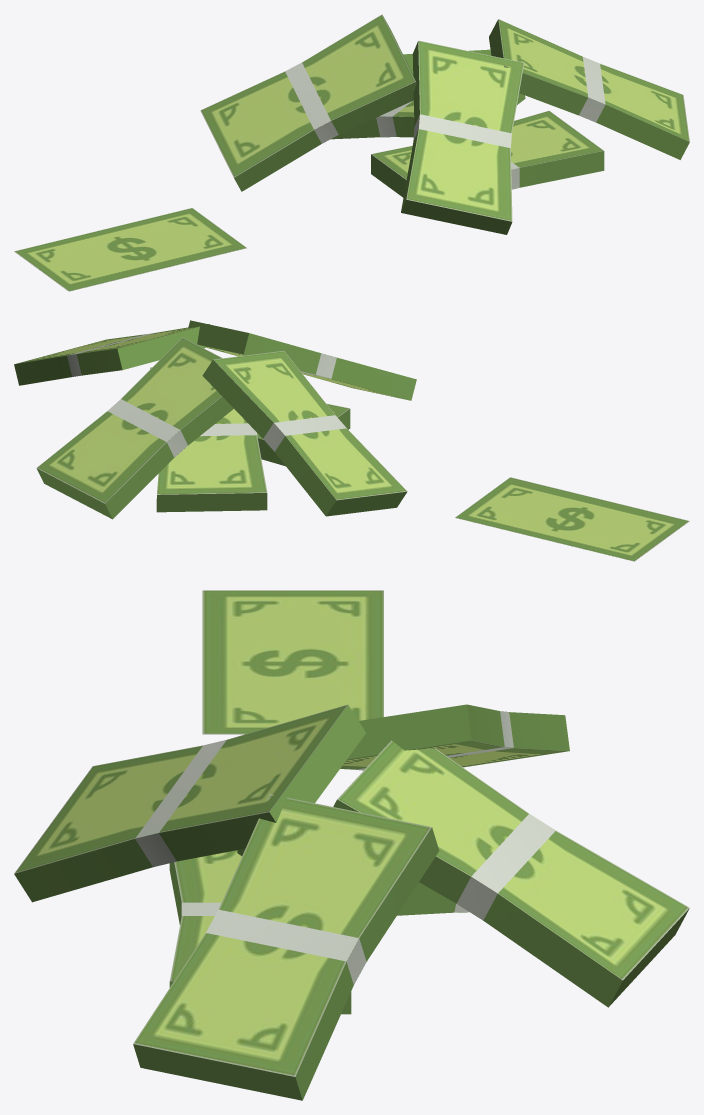
File: cash_lowpoly.glb
3 renders of one model, top to bottom at view 1: azimuth 30°, elevation 25°; view 2: azimuth 150°, elevation 25°; view 3: azimuth 270°, elevation 25°, orthographic. The views are drawn at different scales.
Visible parts, largest first — view 1: C3_01 - Default_0, C7_01 - Default_0, C5_01 - Default_0, Cash_01 - Default_0, C2_01 - Default_0, C4_01 - Default_0; view 2: C6_01 - Default_0, C7_01 - Default_0, Cash_01 - Default_0, C4_01 - Default_0, C3_01 - Default_0, C5_01 - Default_0, C2_01 - Default_0; view 3: C5_01 - Default_0, C6_01 - Default_0, C3_01 - Default_0, Cash_01 - Default_0, C7_01 - Default_0, C2_01 - Default_0, C4_01 - Default_0.
Boxes of the visible parts, x1,y1,x2,y2 form: C3_01 - Default_0: (401, 40, 524, 234); C7_01 - Default_0: (200, 14, 416, 191); C5_01 - Default_0: (489, 19, 689, 159); Cash_01 - Default_0: (14, 208, 246, 291); C2_01 - Default_0: (371, 110, 604, 197); C4_01 - Default_0: (331, 93, 525, 139); C6_01 - Default_0: (36, 337, 233, 519); C7_01 - Default_0: (202, 351, 407, 516); Cash_01 - Default_0: (455, 477, 689, 561); C4_01 - Default_0: (150, 367, 267, 512); C3_01 - Default_0: (188, 320, 416, 400); C5_01 - Default_0: (14, 324, 209, 385); C2_01 - Default_0: (257, 403, 350, 466); C5_01 - Default_0: (133, 794, 439, 1100); C6_01 - Default_0: (333, 740, 689, 1007); C3_01 - Default_0: (14, 704, 365, 902); Cash_01 - Default_0: (202, 590, 383, 734); C7_01 - Default_0: (340, 704, 569, 770); C2_01 - Default_0: (169, 850, 351, 1014); C4_01 - Default_0: (237, 848, 469, 915).
Size of the model in its own units: 106 by 19.38 by 58.38.
1 material, 1 textured.
